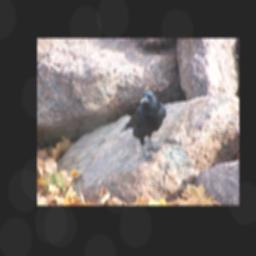Crow: (116, 87, 167, 163)
